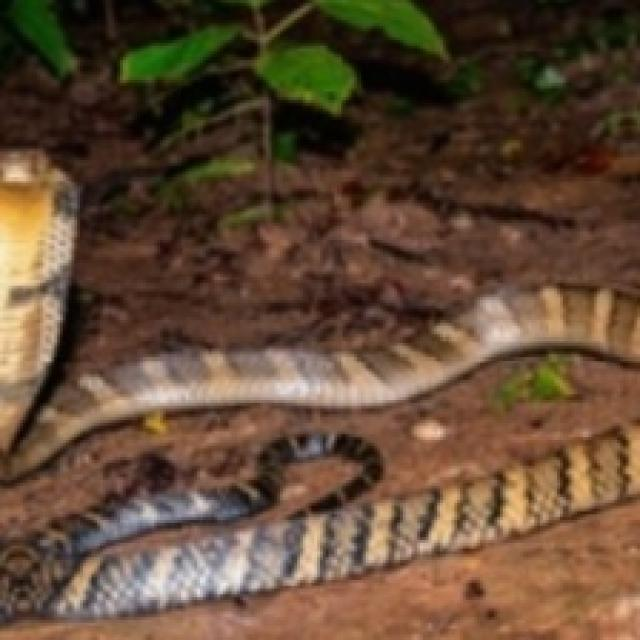king cobra: (0, 169, 637, 617)
